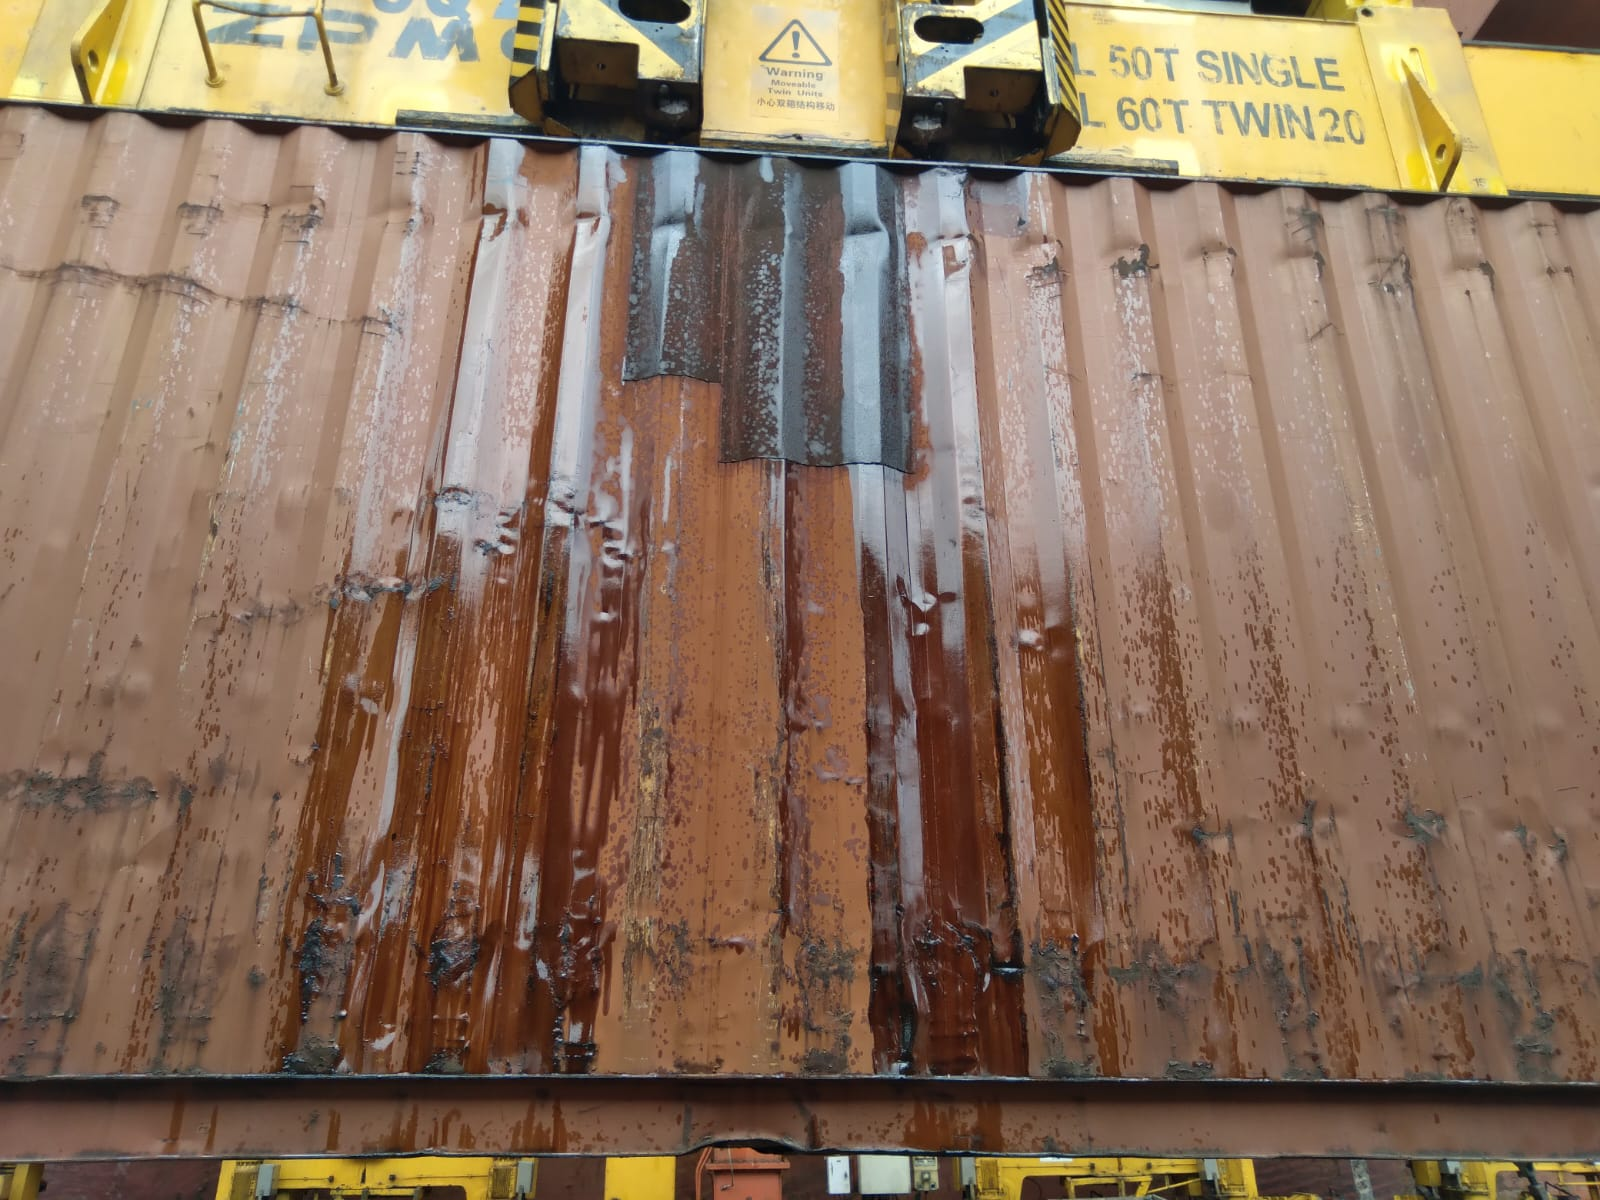dented: (83, 185, 1567, 297), (853, 891, 1519, 1041), (304, 466, 658, 629), (270, 866, 637, 1012), (853, 570, 1061, 684)
